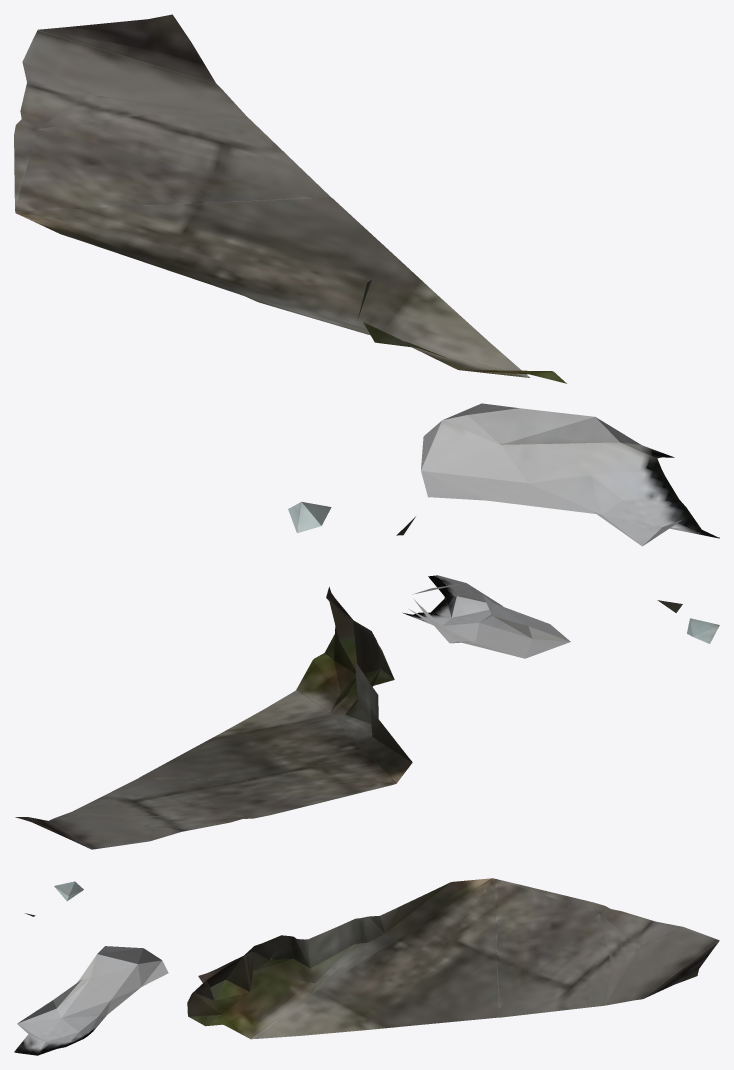
3 renders of one model, top to bottom at view 1: azimuth 30°, elevation 25°; view 2: azimuth 150°, elevation 25°; view 3: azimuth 270°, elevation 25°, orthographic. The views are drawn at different scales.
Size of the model in its own units: 0.7365 by 0.2343 by 1.88.
Materials: 1 (1 with a texture image).
